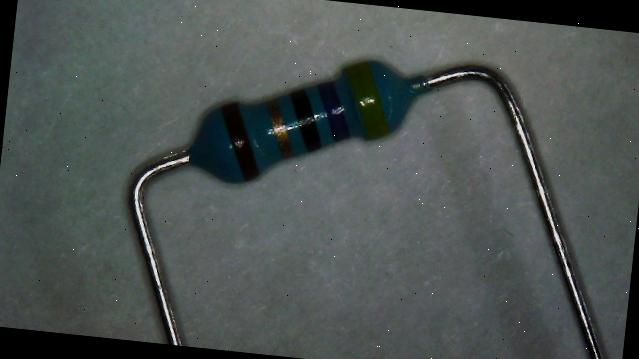black: (285, 87, 327, 153)
brown: (214, 101, 266, 181)
gold: (262, 98, 298, 158)
resistor: (176, 29, 439, 206)
violet: (312, 80, 354, 142)
yellow: (340, 61, 395, 140)
